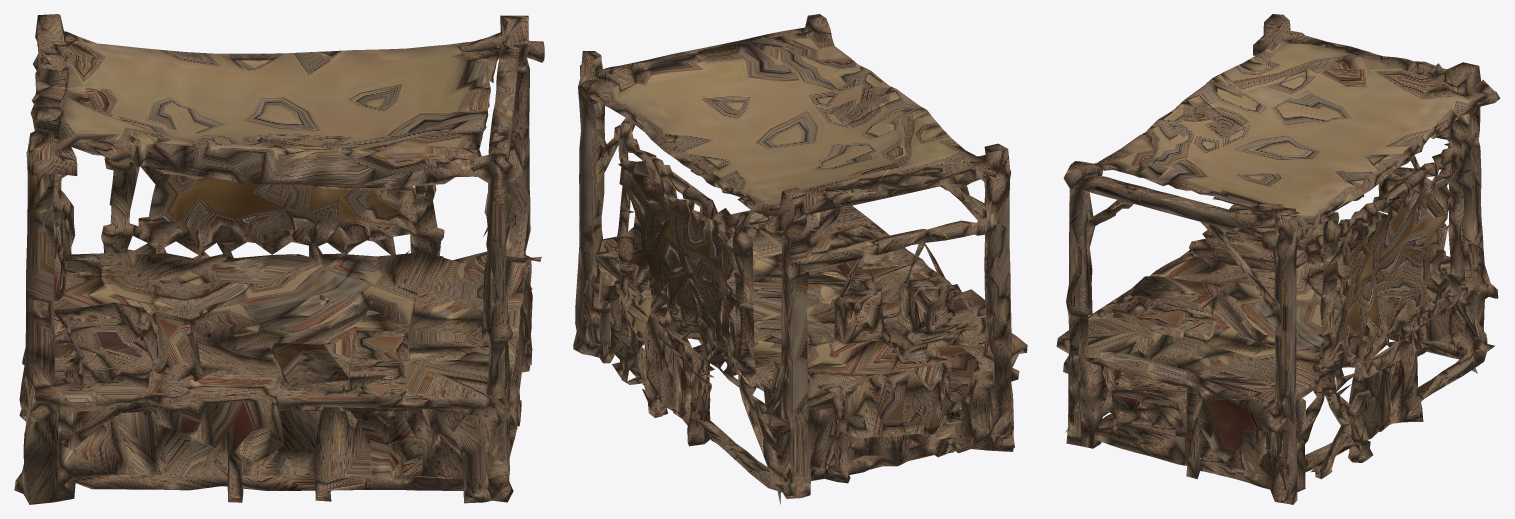
File: tanner-market-stall-pixal3d.glb
The picture shows the model from 3 angles, left to right: view 1: azimuth 30°, elevation 25°; view 2: azimuth 150°, elevation 25°; view 3: azimuth 270°, elevation 25°; orthographic projection. The views are drawn at different scales.
Visible parts, largest first — view 1: geometry_0; view 2: geometry_0; view 3: geometry_0.
Boxes of the visible parts, x1=… form: geometry_0: x1=14, y1=14, x2=544, y2=504; geometry_0: x1=573, y1=14, x2=1027, y2=504; geometry_0: x1=1056, y1=14, x2=1500, y2=504.
Size of the model in its own units: 4.13 by 2.79 by 3.7.
Materials: 1 (1 with a texture image).
